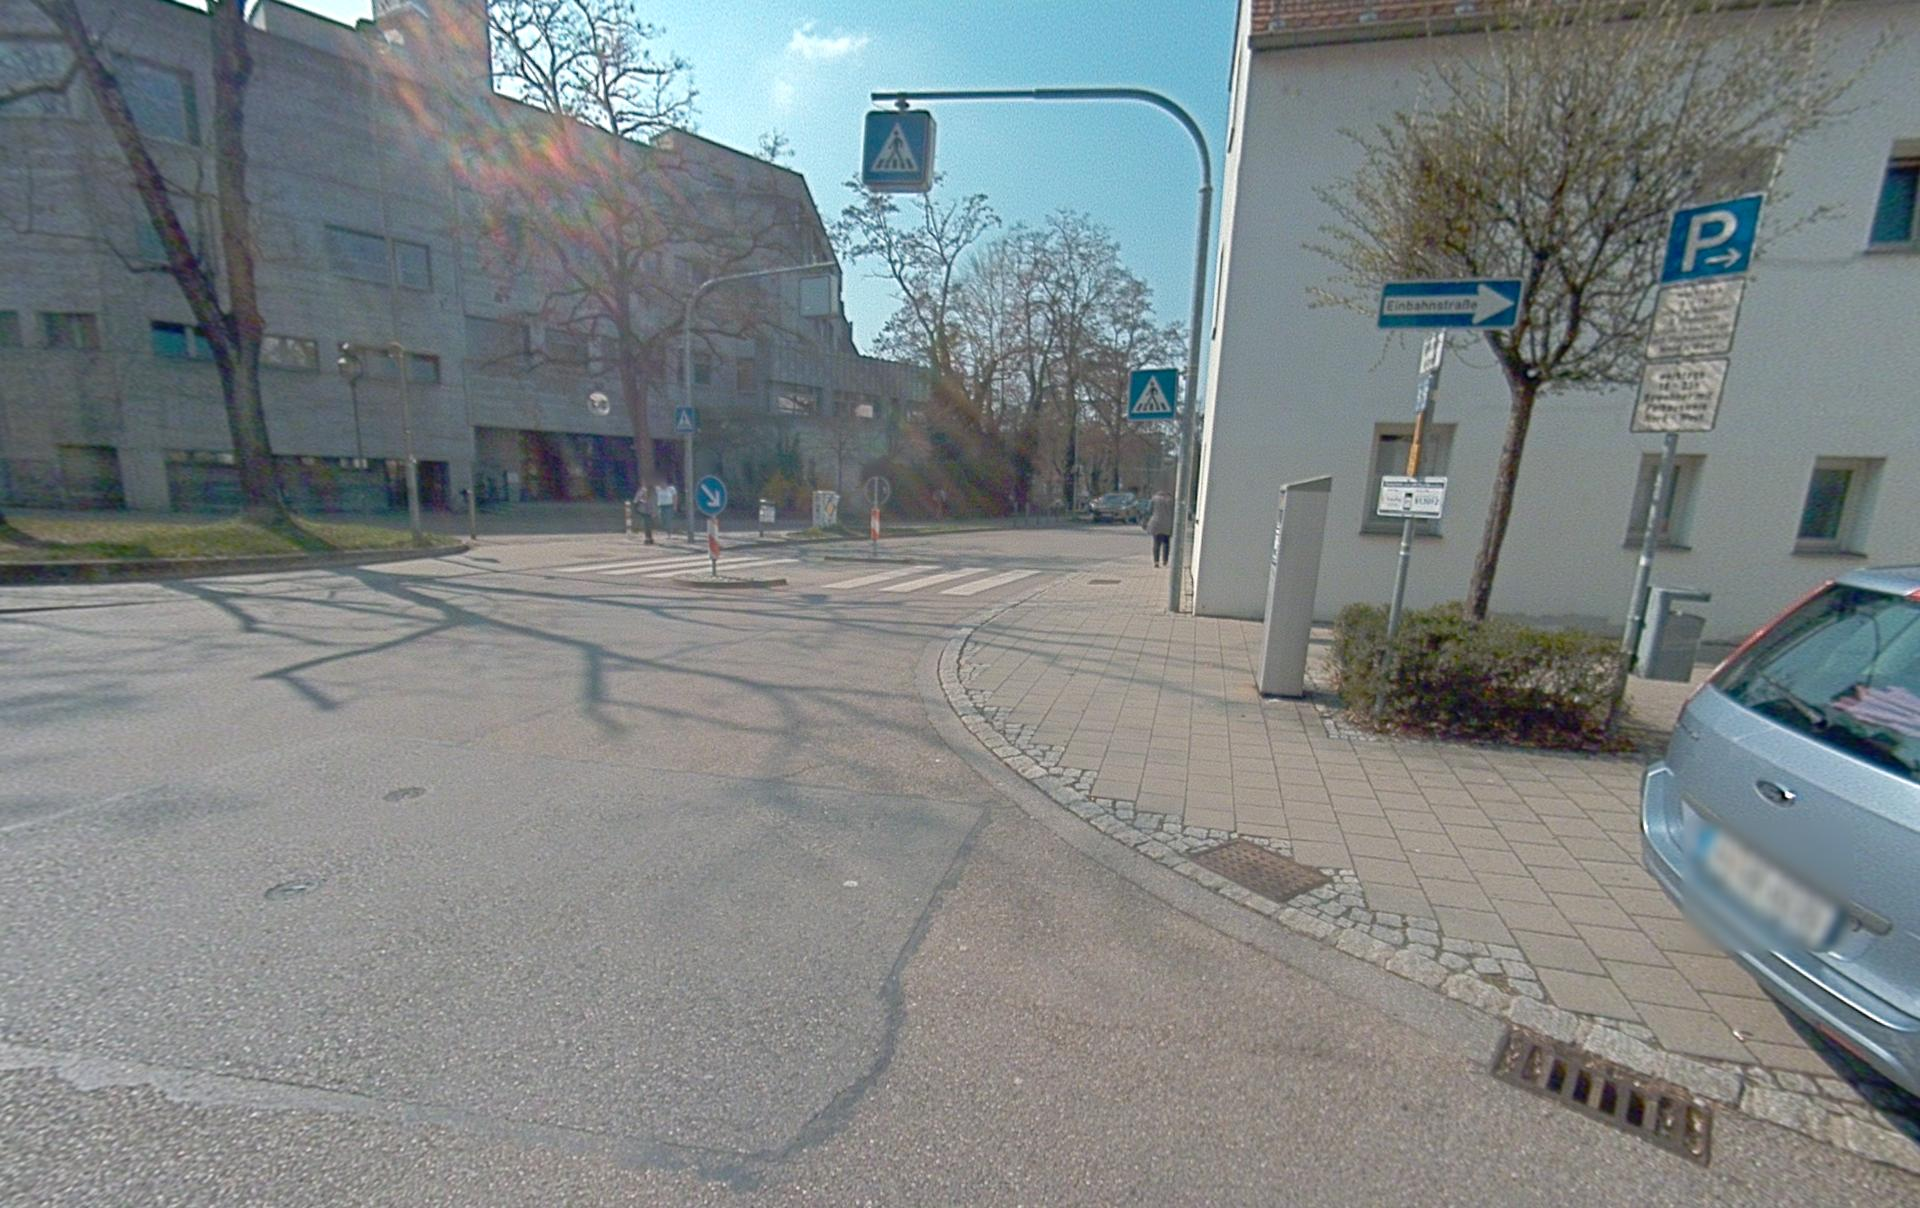car: (1640, 566, 1919, 1095), (1087, 490, 1142, 522)
